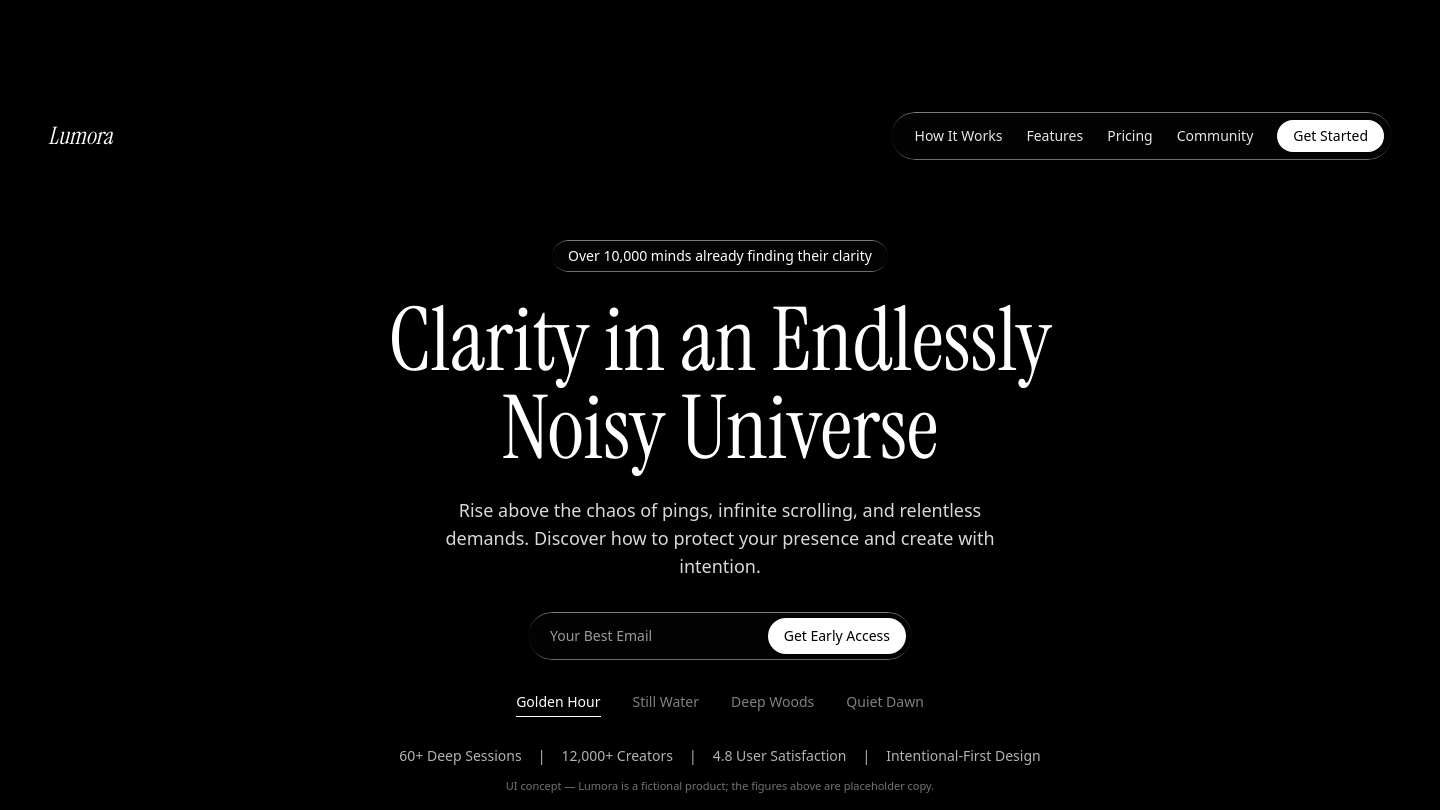
LumoraShowcase › switches the hero text to dark for "Deep Woods" only
Expected: the heading has style "color: #ffffff", top-left (388, 296), bottom-right (1052, 472)
Click the button "Deep Woods" at (773, 704), box top-left (731, 692), bottom-right (814, 717)
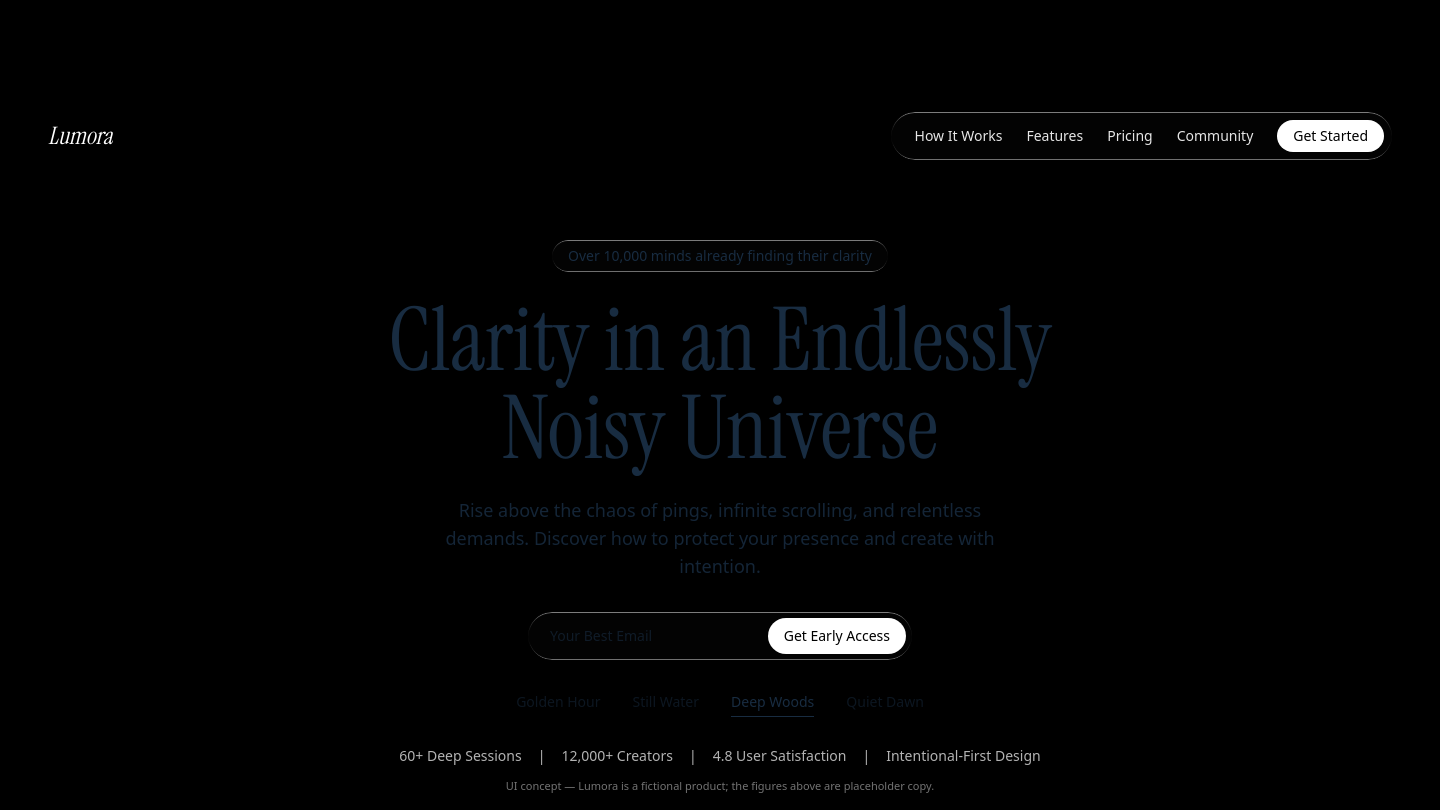
Expected: the heading has style "color: #182C41", top-left (388, 296), bottom-right (1052, 472)
Expected: the button "Deep Woods" is pressed, top-left (731, 692), bottom-right (814, 717)
